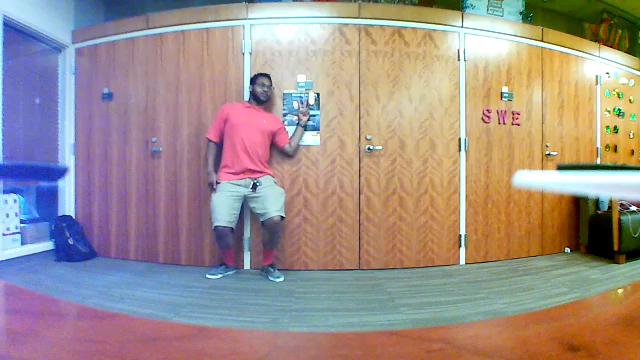peace: (293, 96, 311, 124)
